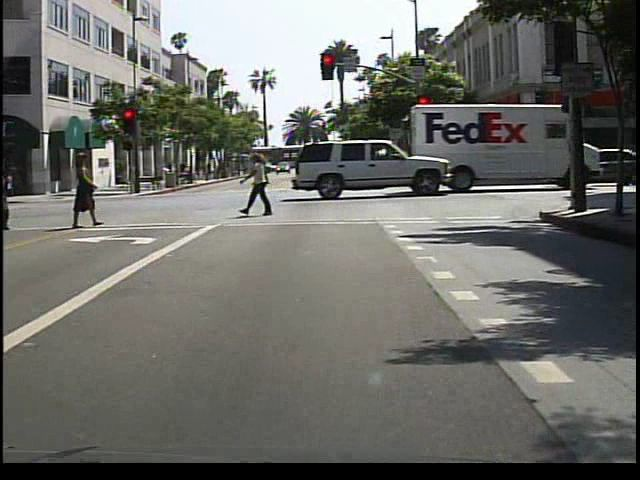person: (69, 147, 104, 230), (245, 150, 281, 218), (3, 153, 19, 231), (178, 157, 192, 184)
